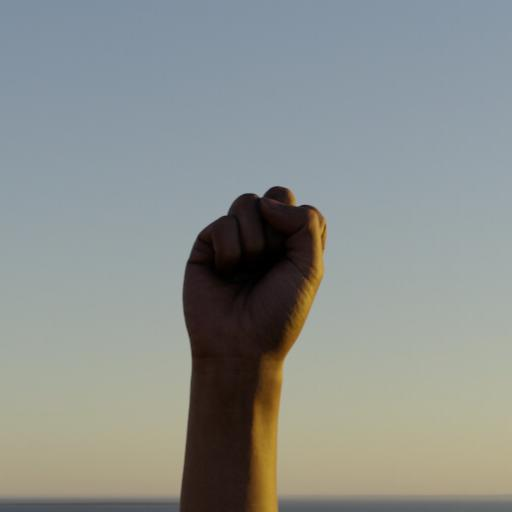S: (172, 181, 338, 366)
